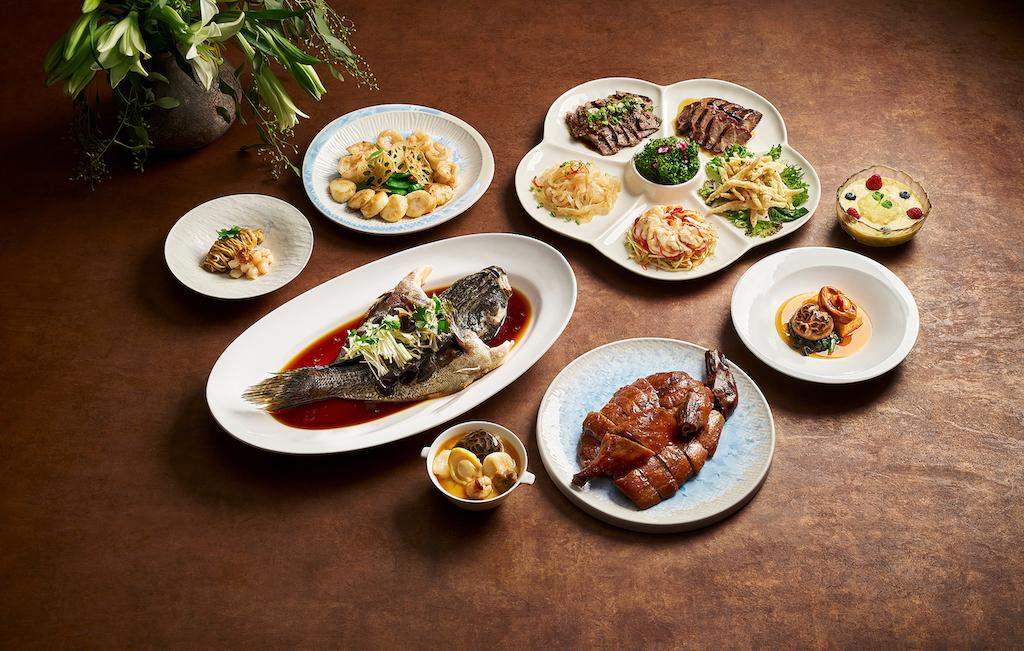Braised Crucian Carp: (199, 231, 521, 452), (515, 75, 795, 279), (536, 336, 758, 526), (299, 102, 487, 234), (729, 246, 915, 379), (162, 194, 313, 298)
